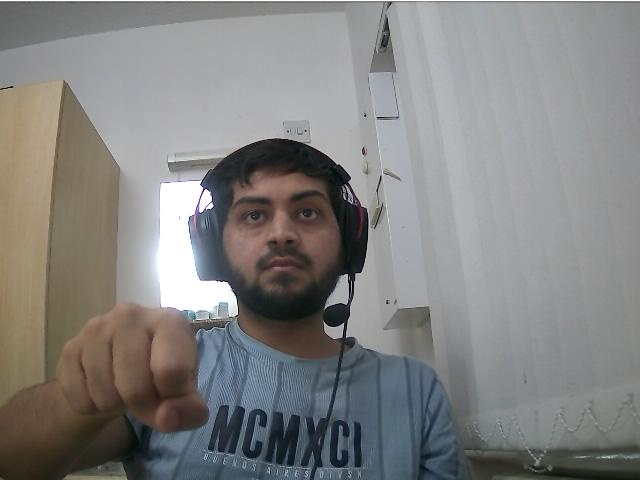hold: (57, 299, 211, 436)
